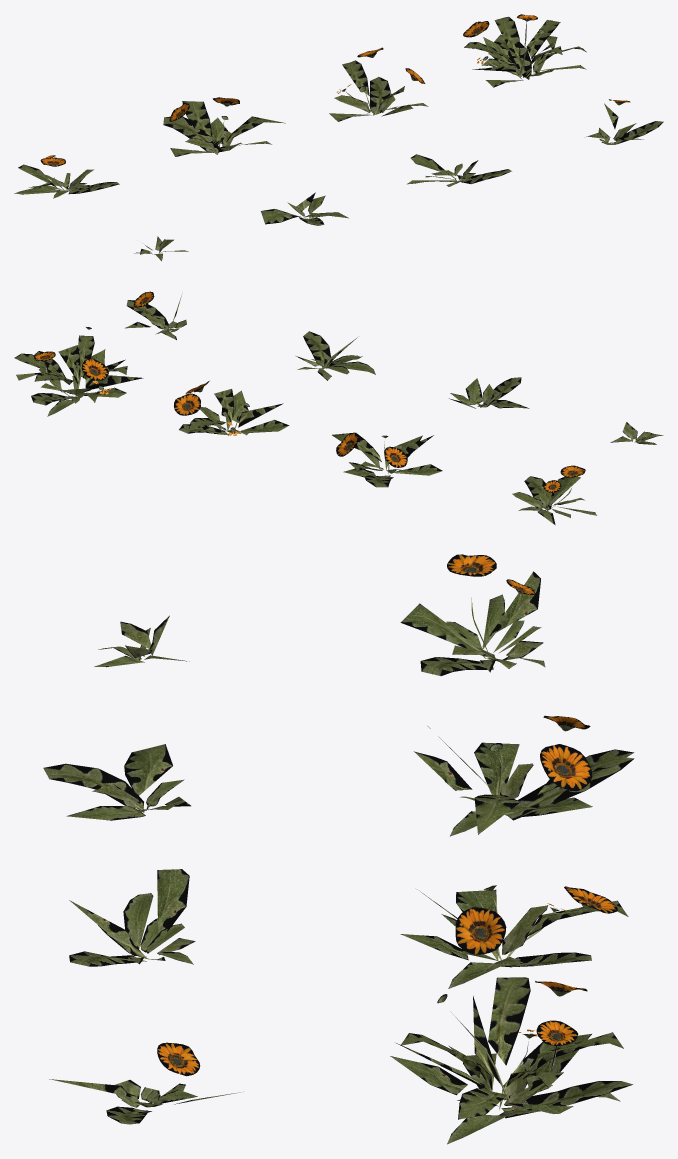
Rendered from flower_gazania.glb.
The picture shows the model from 3 angles, top to bottom: view 1: azimuth 30°, elevation 25°; view 2: azimuth 150°, elevation 25°; view 3: azimuth 270°, elevation 25°; orthographic projection. The views are drawn at different scales.
Parts seen in each view (by area): view 1: flower_gazania_a_LOD0; view 2: flower_gazania_a_LOD0; view 3: flower_gazania_a_LOD0.
Boxes of the visible parts, box(x1,y1,x2,y2) form: flower_gazania_a_LOD0: box(14, 14, 663, 261); flower_gazania_a_LOD0: box(14, 291, 663, 525); flower_gazania_a_LOD0: box(43, 554, 634, 1144).
Size of the model in its own units: 1.48 by 0.1559 by 0.6734.
Materials: 1 (1 with a texture image).
